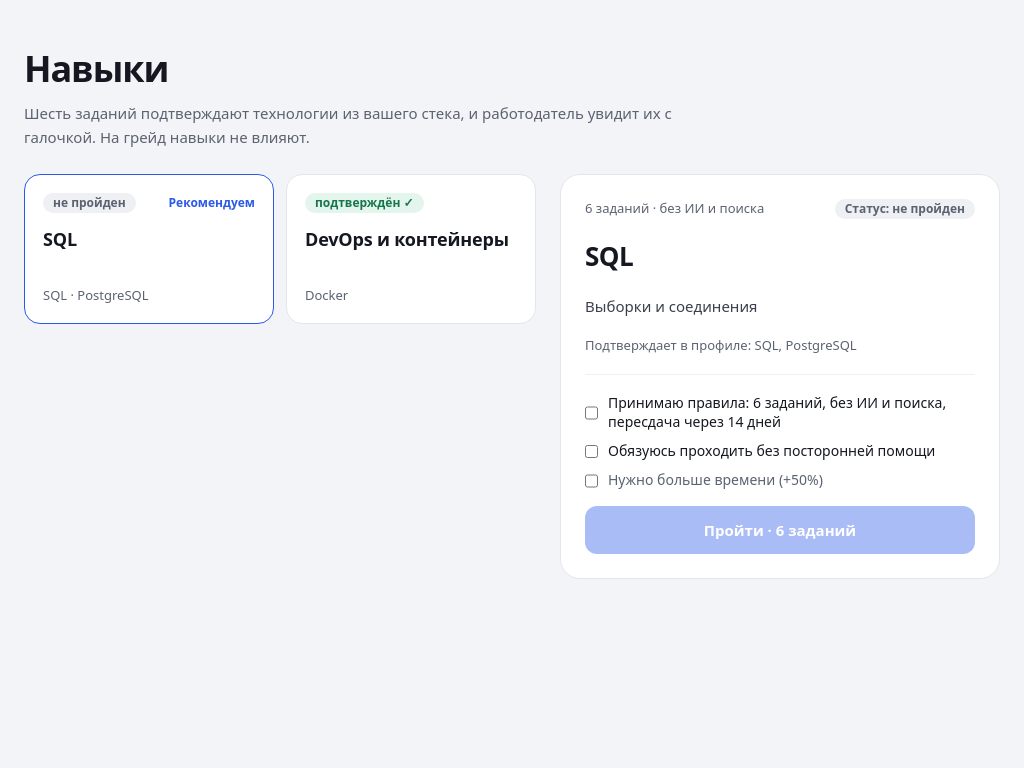
Test case: Навыки: сетка и карточка › opens the recommended skill first and switches the detail on click
Expected: the heading "SQL" is shown, [585,238,633,274]
Click the button "подтверждён ✓ DevOps и контейнеры Docker": (411, 249) [286,174,536,324]
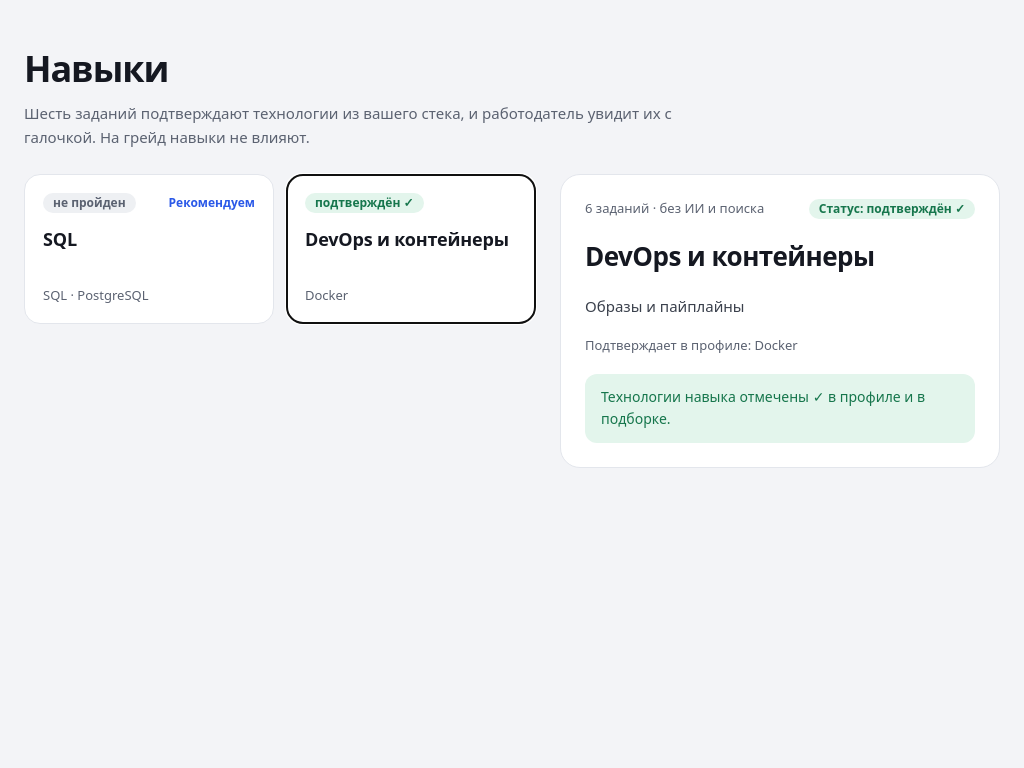
Result: the heading "DevOps и контейнеры" is shown at [585,238,874,274]
Result: the text "Технологии навыка отмечены ✓ в профиле и в подборке." is shown at [585,374,975,443]
Result: the button "Пройти · 6 заданий" is gone
